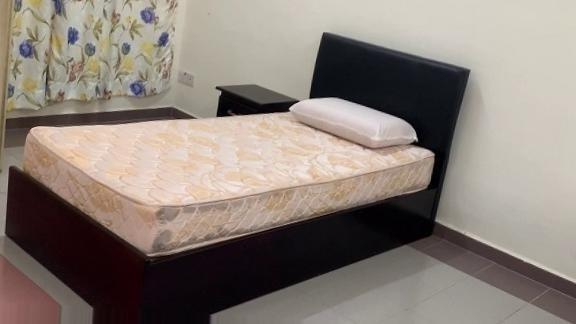bed: (0, 16, 502, 324)
table: (206, 74, 291, 117)
